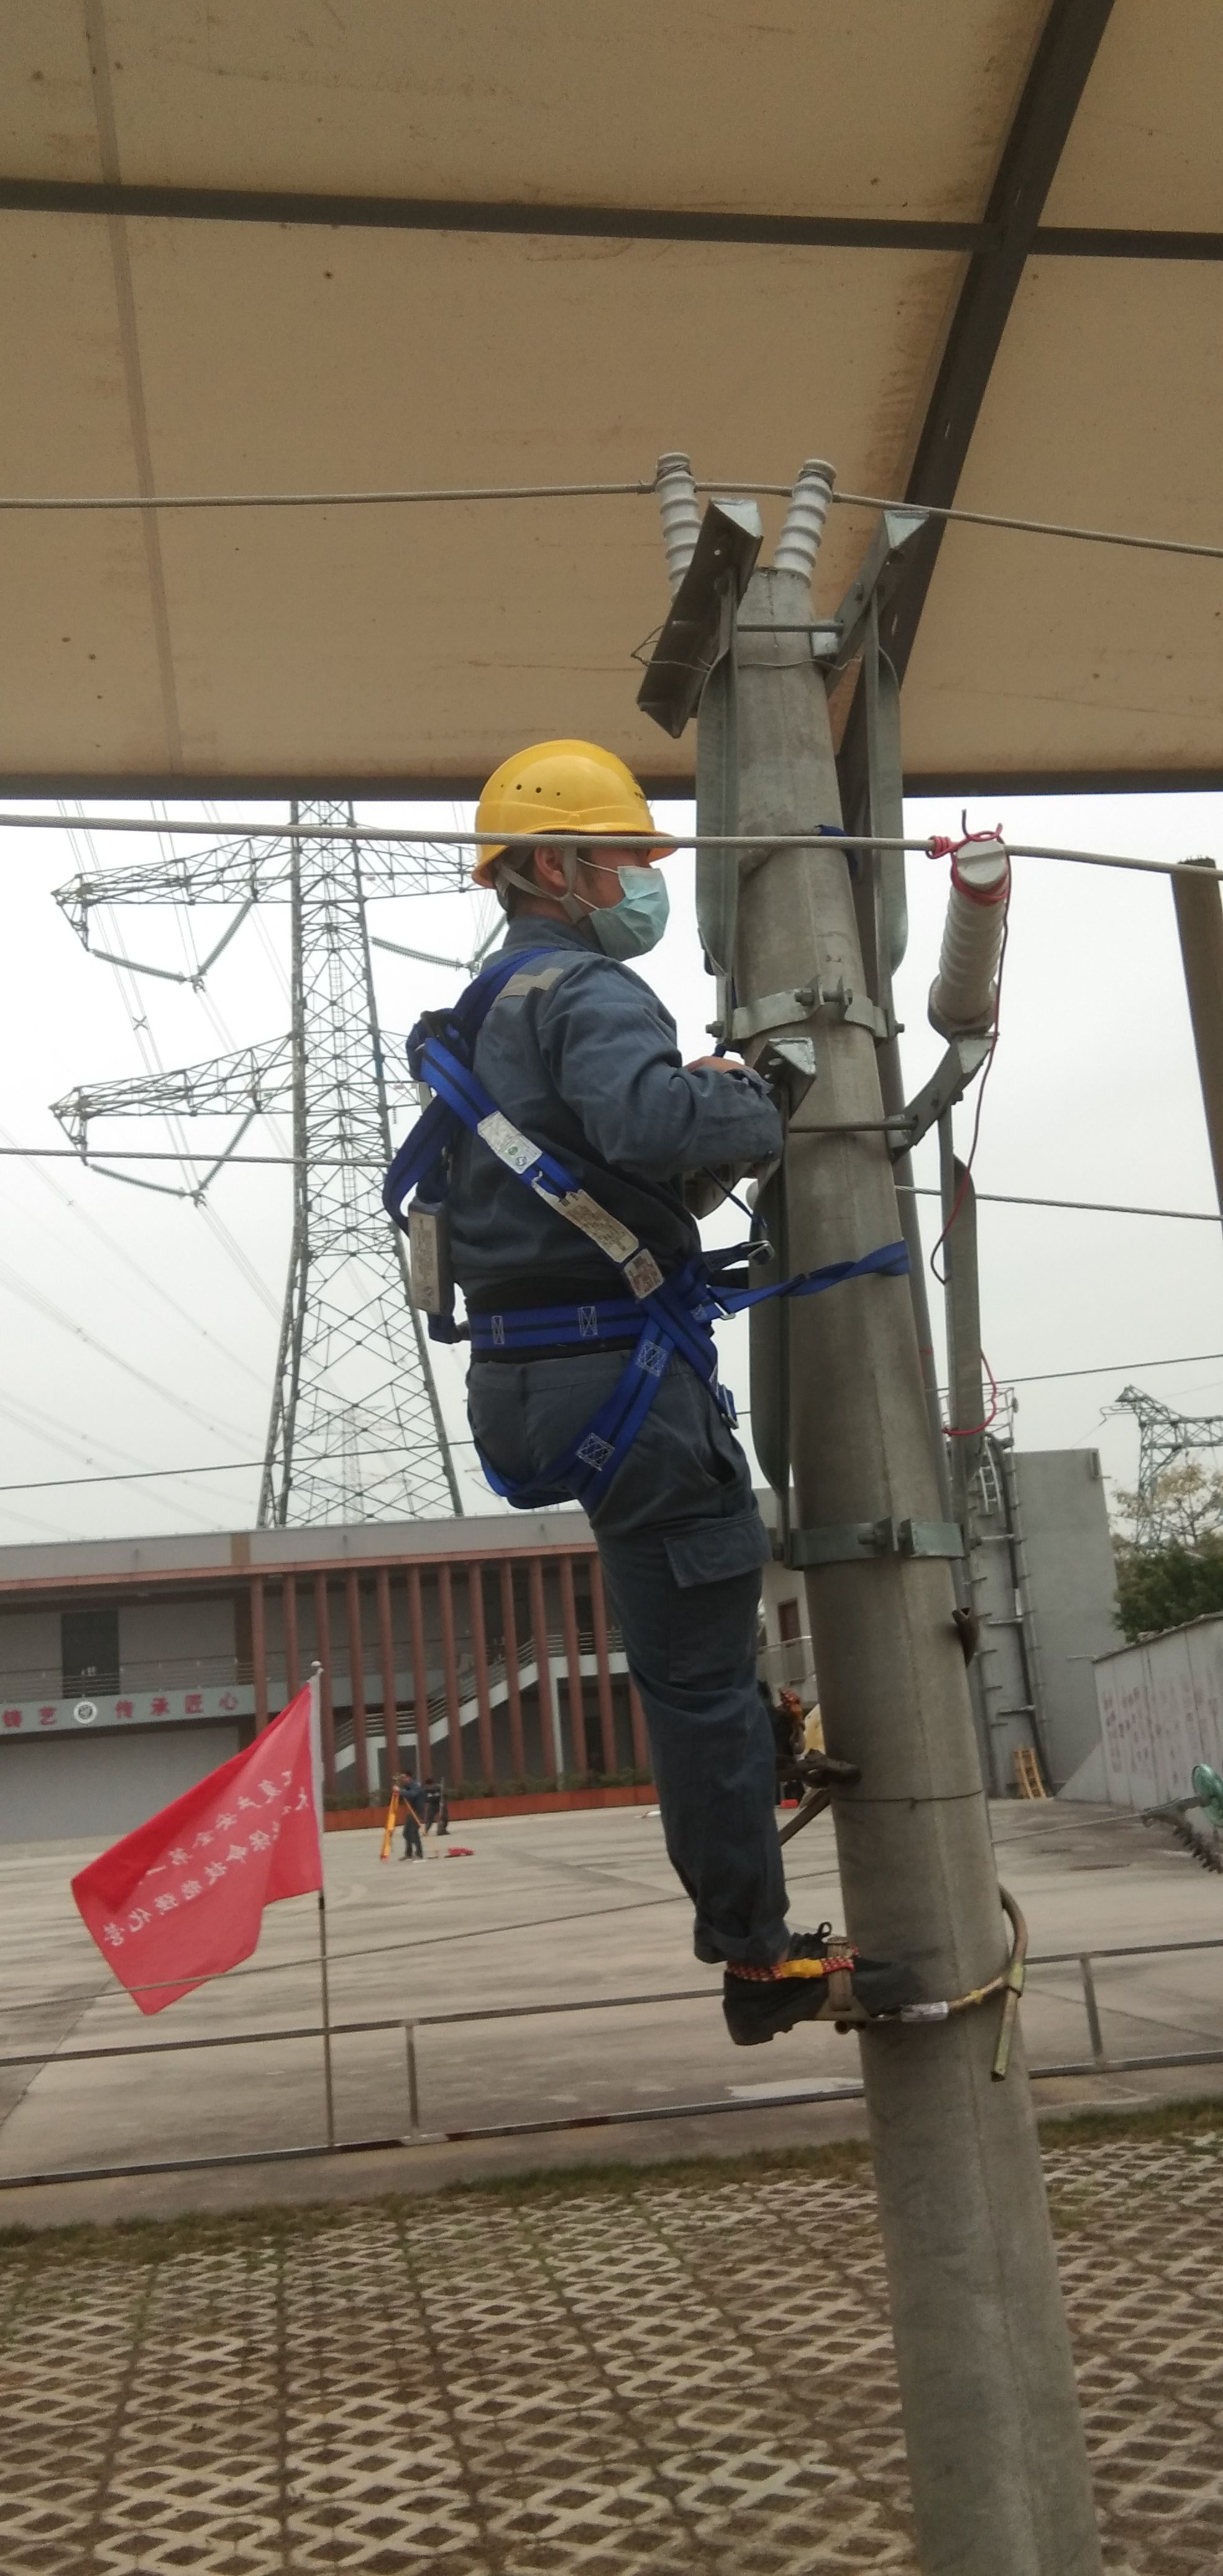downsuit: (470, 1354, 795, 1965)
upsuit: (401, 928, 781, 1342)
